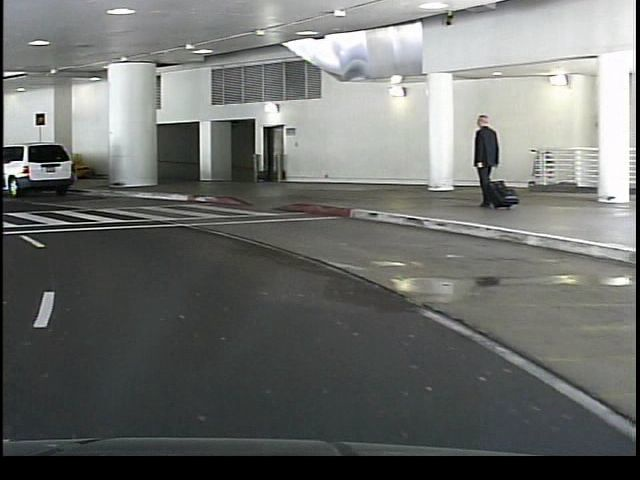person: (462, 110, 496, 210)
